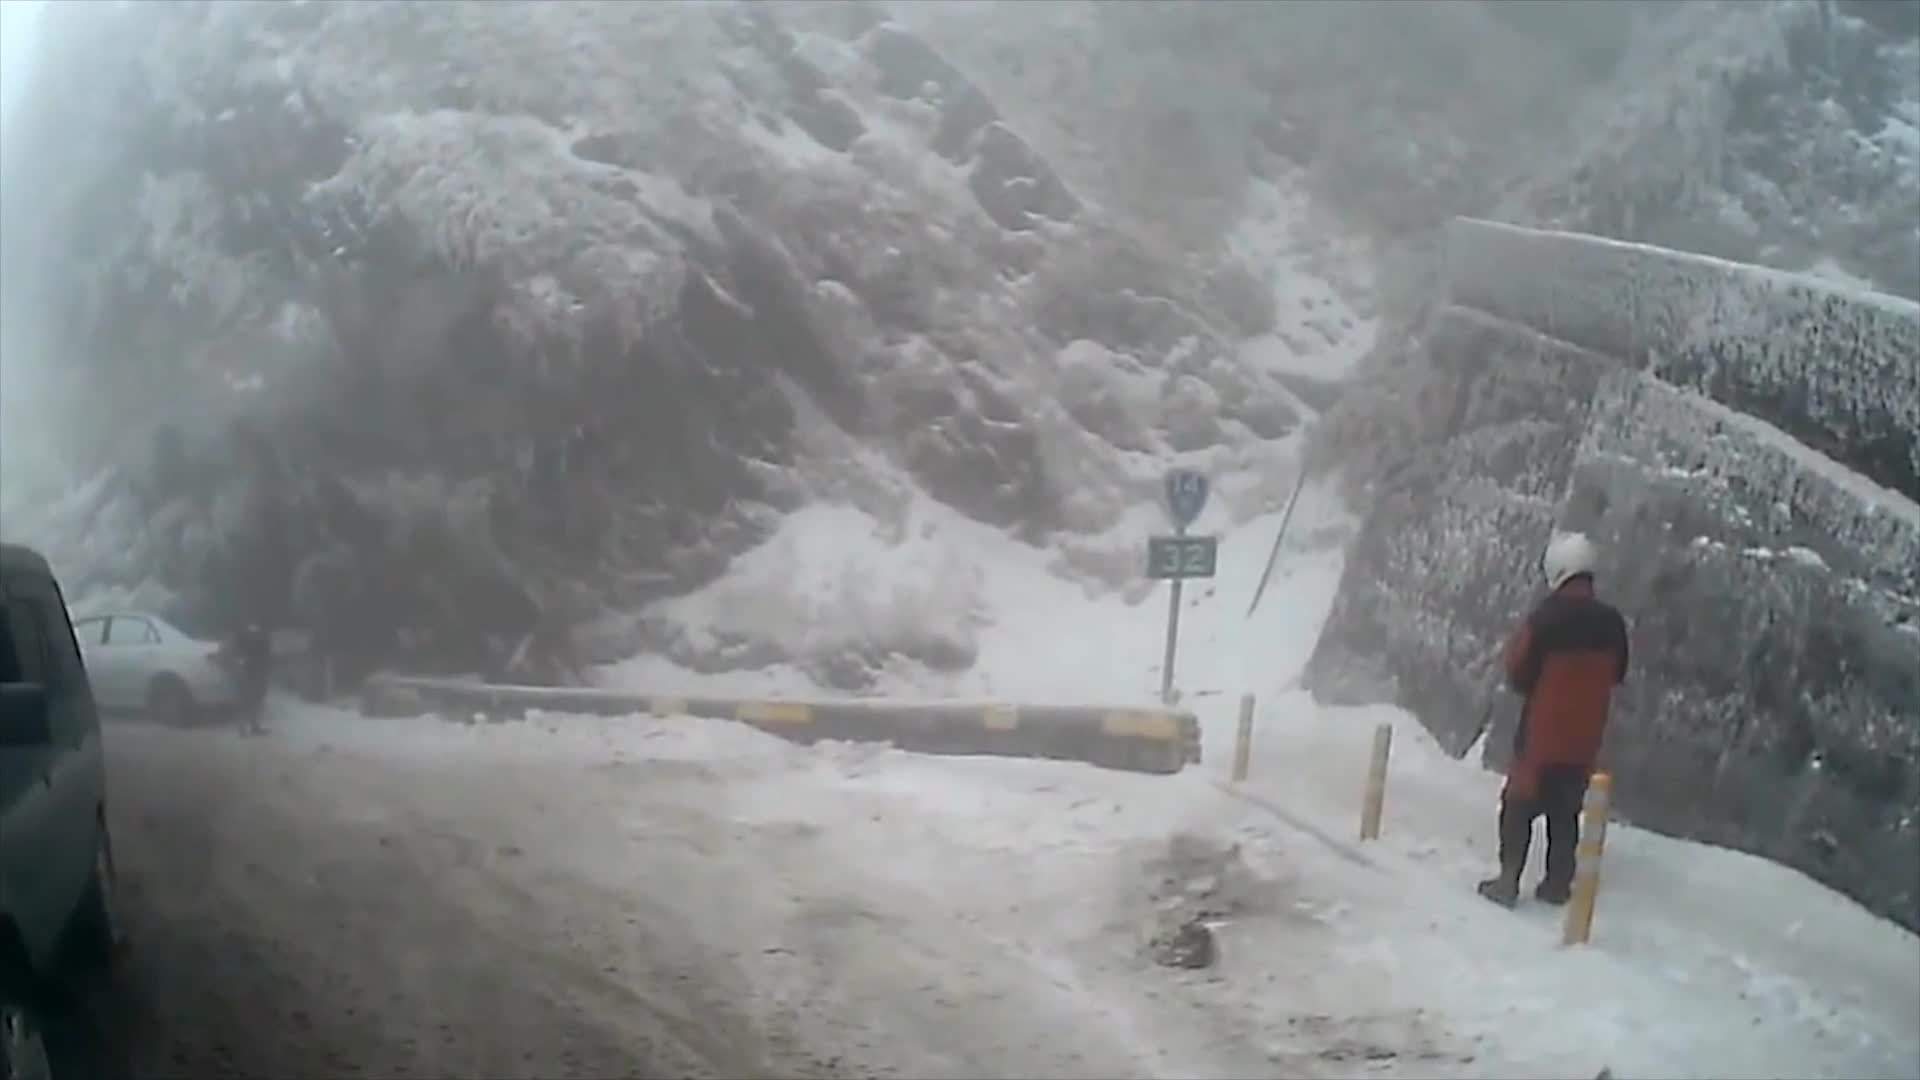pedestrian: (1485, 536, 1628, 910), (232, 608, 279, 739)
vehicle: (0, 539, 122, 1074), (0, 607, 222, 728)
